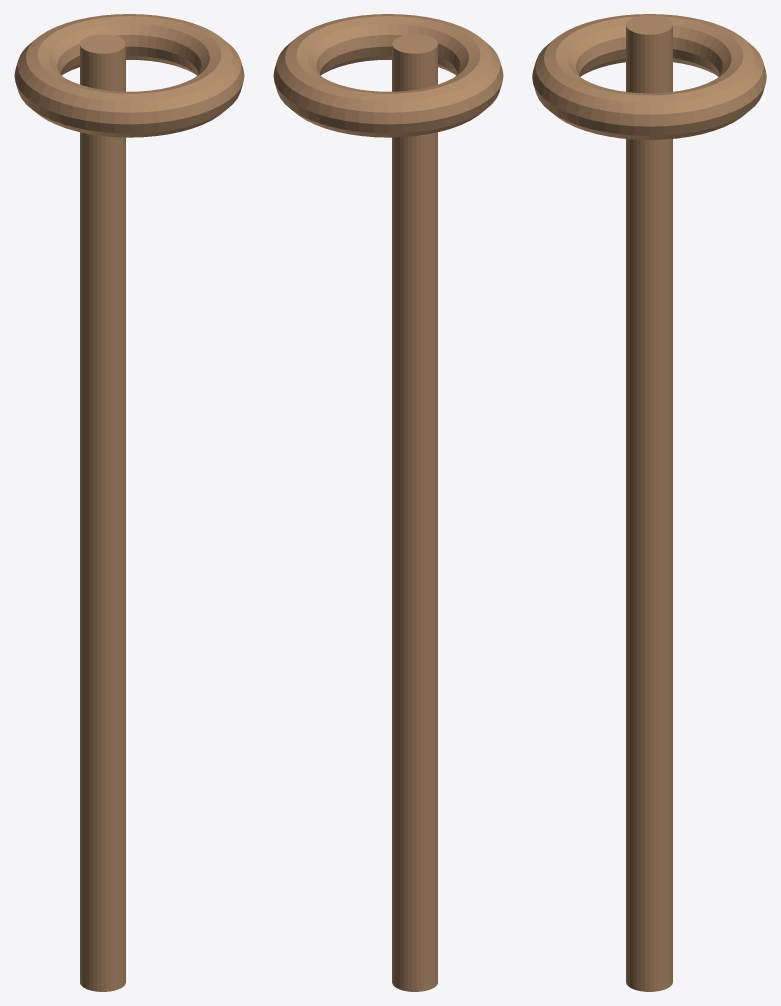
Rendered from weapon_oak_staff.glb.
The picture shows the model from 3 angles, left to right: view 1: azimuth 30°, elevation 25°; view 2: azimuth 150°, elevation 25°; view 3: azimuth 270°, elevation 25°; orthographic projection. The views are drawn at different scales.
Parts seen in each view (by area): view 1: Cylinder, Torus; view 2: Cylinder, Torus; view 3: Cylinder, Torus.
Boxes of the visible parts, x1,y1,x2,y2 form: Cylinder: [80, 34, 125, 991]; Torus: [14, 14, 244, 137]; Cylinder: [392, 34, 437, 991]; Torus: [273, 14, 503, 137]; Cylinder: [626, 15, 672, 991]; Torus: [532, 14, 766, 139].
Bounding box in the file's own units: 0.3 × 1.35 × 0.3.
